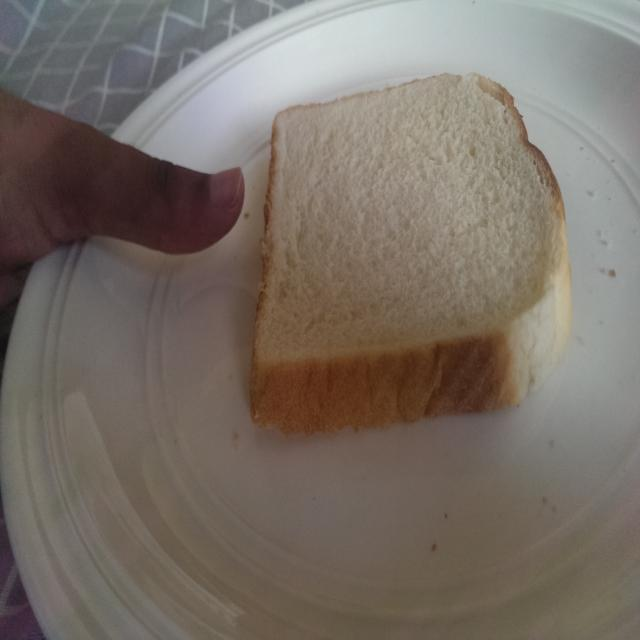Bread: (253, 62, 582, 453)
Finger: (132, 134, 252, 264)
